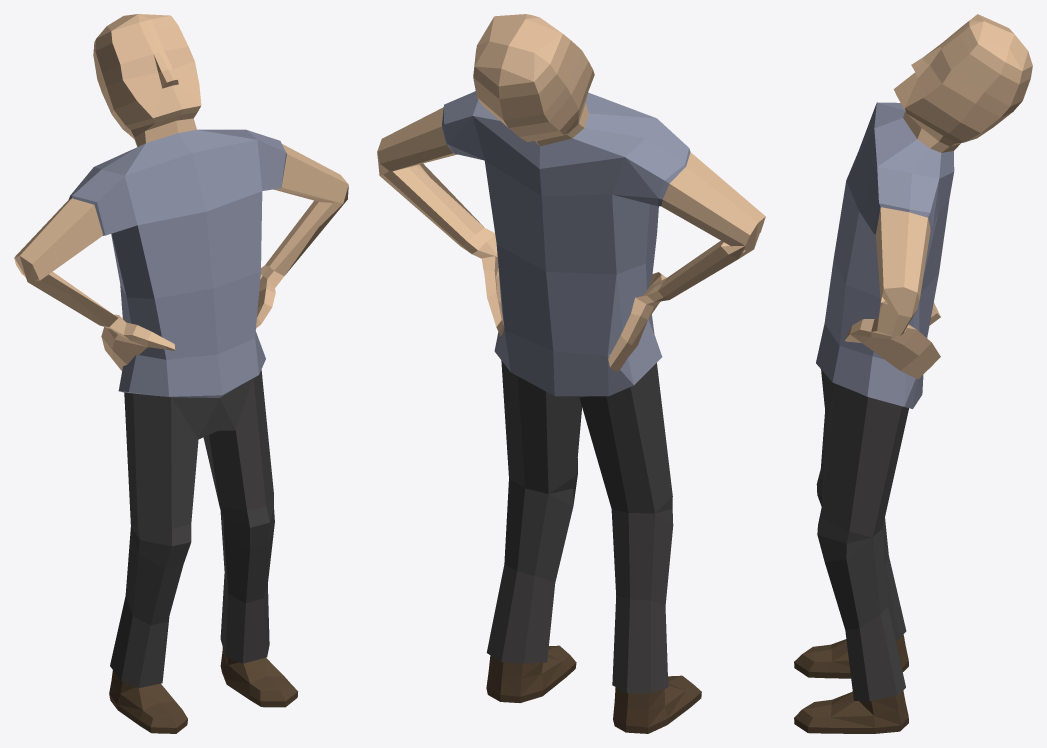
Rendered from Male_LookingUp.glb.
3 views of the same model, side by side, from view 1: azimuth 30°, elevation 25°; view 2: azimuth 150°, elevation 25°; view 3: azimuth 270°, elevation 25° (orthographic). The views are drawn at different scales.
Visible parts, largest first — view 1: Looking_Up; view 2: Looking_Up; view 3: Looking_Up.
Boxes of the visible parts, x1,y1,x2,y2 form: Looking_Up: (14,14,348,733); Looking_Up: (377,14,765,733); Looking_Up: (794,14,1032,733).
Size of the model in its own units: 1.99 by 3.69 by 1.18.
